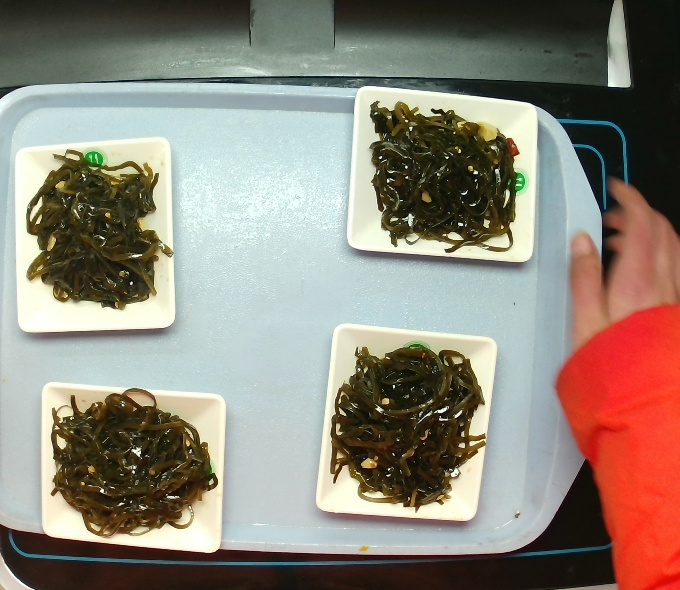wcq-LiangBanHaiDai: (328, 327, 491, 520), (357, 97, 532, 253), (45, 378, 208, 543), (15, 151, 175, 309)
